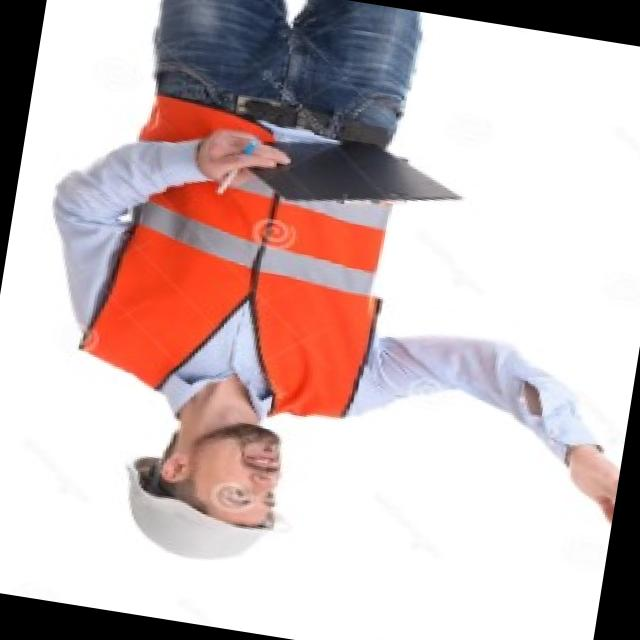not-gloved: (536, 434, 624, 546), (184, 117, 288, 203)
